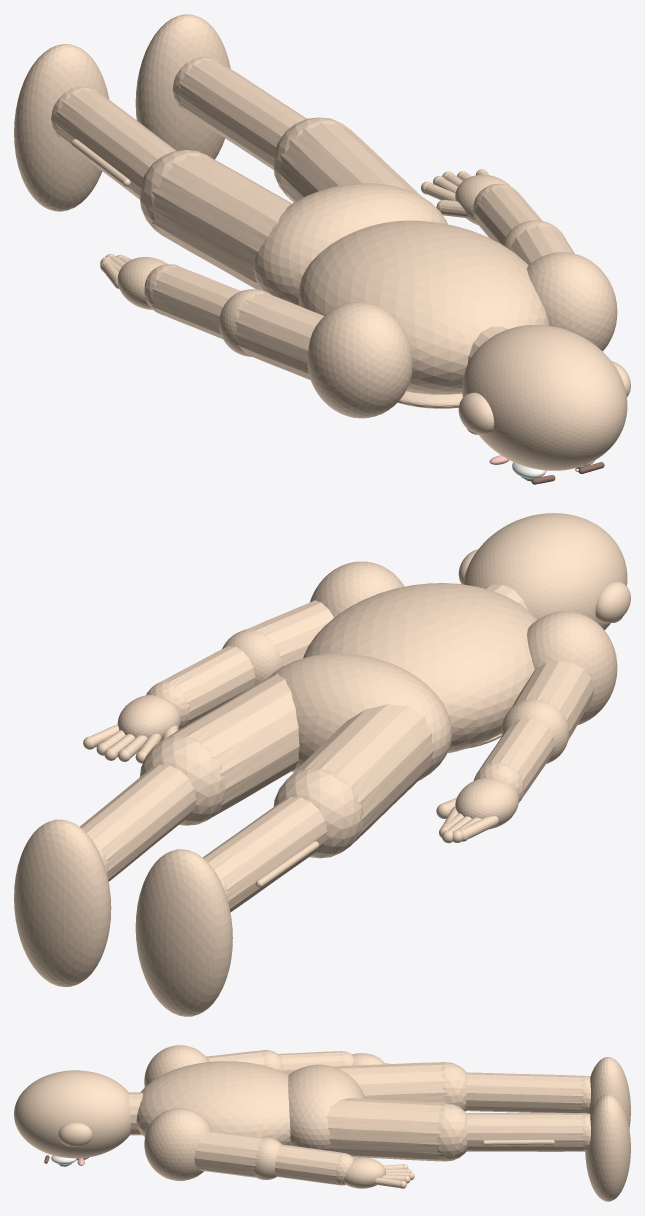
Rendered from aventurero.glb.
The picture shows the model from 3 angles, top to bottom: view 1: azimuth 30°, elevation 25°; view 2: azimuth 150°, elevation 25°; view 3: azimuth 270°, elevation 25°; orthographic projection. The views are drawn at different scales.
Parts seen in each view (by area): view 1: torso_suit, head, L_thigh_shaft, L_shoulder, hip_suit, L_boot_foot, R_boot_foot, R_lower_leg_shaft, L_lower_leg_shaft, R_thigh_shaft, R_shoulder, L_upper_sleeve_shaft (+10 smaller); view 2: torso_suit, L_boot_foot, R_boot_foot, head, hip_suit, L_thigh_shaft, R_thigh_shaft, R_lower_leg_shaft, L_lower_leg_shaft, L_shoulder, L_thigh_endA, R_forearm_sleeve_shaft (+12 smaller); view 3: torso_suit, head, R_thigh_shaft, L_lower_leg_shaft, R_lower_leg_shaft, hip_suit, R_boot_foot, R_shoulder, L_thigh_shaft, R_upper_sleeve_shaft, R_forearm_sleeve_shaft, L_boot_foot (+15 smaller).
Part boxes in pixels (x1,y1,x2,y2): torso_suit: (298, 220, 548, 394); head: (462, 325, 627, 470); L_thigh_shaft: (149, 153, 292, 289); L_shoulder: (307, 302, 412, 418); hip_suit: (254, 183, 447, 305); L_boot_foot: (14, 44, 109, 211); R_boot_foot: (135, 14, 230, 159); R_lower_leg_shaft: (177, 59, 306, 169); L_lower_leg_shaft: (54, 89, 176, 199); R_thigh_shaft: (277, 122, 420, 202); R_shoulder: (527, 252, 617, 351); L_upper_sleeve_shaft: (234, 292, 323, 379); torso_suit: (303, 583, 537, 753); L_boot_foot: (135, 849, 232, 1016); R_boot_foot: (14, 819, 111, 986); head: (463, 513, 627, 630); hip_suit: (269, 653, 452, 780); L_thigh_shaft: (290, 704, 433, 844); R_thigh_shaft: (166, 673, 299, 816); R_lower_leg_shaft: (80, 765, 196, 881); L_lower_leg_shaft: (203, 797, 327, 912); L_shoulder: (527, 611, 617, 725); L_thigh_endA: (273, 767, 363, 858); R_forearm_sleeve_shaft: (161, 645, 255, 725); torso_suit: (136, 1061, 290, 1145); head: (14, 1070, 130, 1158); R_thigh_shaft: (326, 1098, 444, 1161); L_lower_leg_shaft: (466, 1072, 584, 1113); R_lower_leg_shaft: (466, 1113, 584, 1151); hip_suit: (288, 1064, 365, 1150); R_boot_foot: (585, 1094, 630, 1201); R_shoulder: (144, 1108, 212, 1180); L_thigh_shaft: (332, 1062, 446, 1103); R_upper_sleeve_shaft: (194, 1130, 264, 1177); R_forearm_sleeve_shaft: (274, 1144, 342, 1184); L_boot_foot: (587, 1057, 630, 1128).
Size of the model in its own units: 2.02 by 0.8402 by 4.31.
